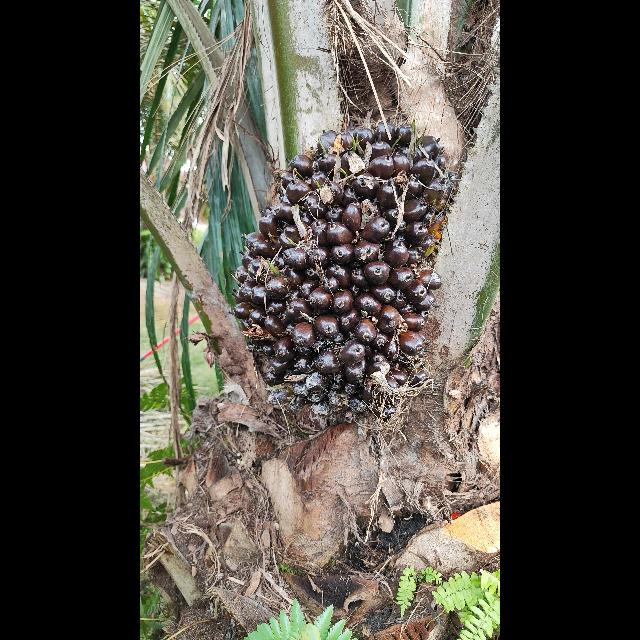Unripe: (235, 116, 462, 440)
